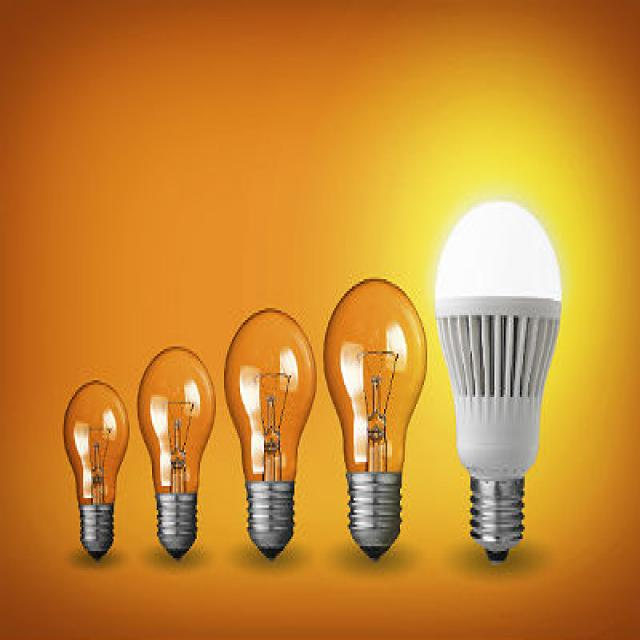Hazard: (56, 243, 443, 565)
